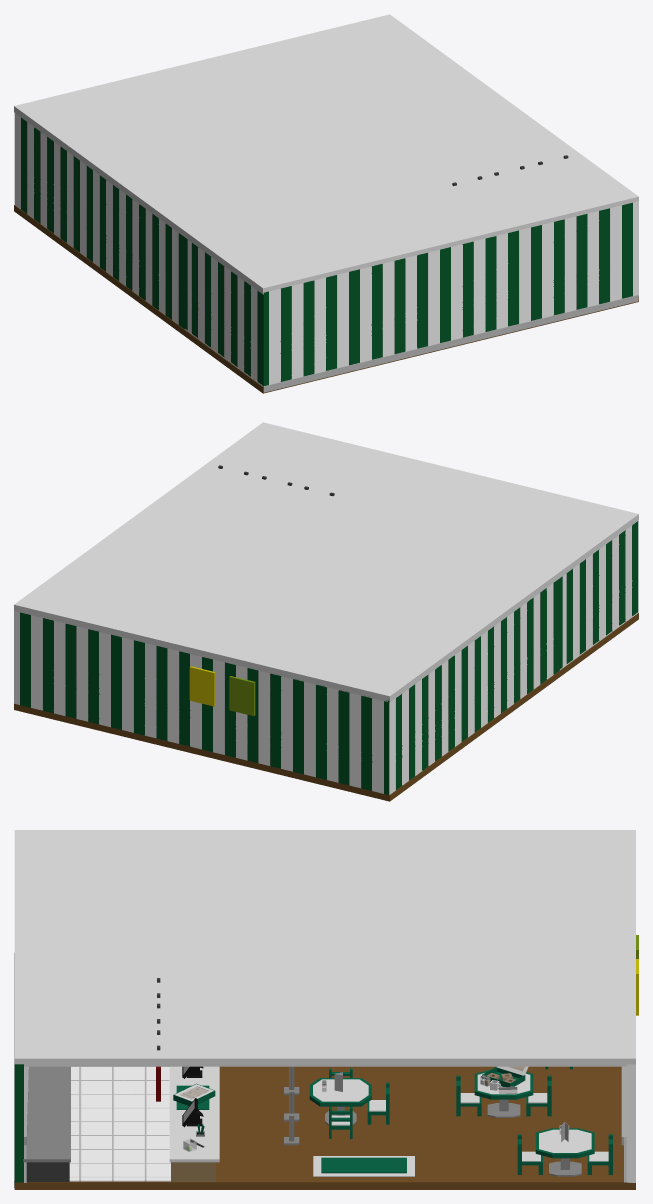
Rendered from GoNuts.fbx.
3 views of the same model, one above another, from view 1: azimuth 30°, elevation 25°; view 2: azimuth 150°, elevation 25°; view 3: azimuth 270°, elevation 25° (orthographic). The views are drawn at different scales.
Parts seen in each view (by area): view 1: Doughnut_Store_Ceiling, Clothing_Store_Wall, Clothing_Store1, Doughnut_Store; view 2: Doughnut_Store_Ceiling, Clothing_Store_Wall, Doughnut_Store, Painting2, Painting1; view 3: Doughnut_Store_Ceiling, Doughnut_Store, Clothing_Store1, Counter_Top (×2), Clothing_Store_Wall, Table5, Table, Mat_Part, Table6, DoughnutCounter, DoughnutCounter1, Welcome_Mat.
Boxes of the visible parts, box(x1,y1,x2,y2) form: Doughnut_Store_Ceiling: box(14, 14, 638, 294); Clothing_Store_Wall: box(14, 113, 638, 386); Clothing_Store1: box(184, 295, 638, 392); Doughnut_Store: box(14, 205, 638, 393); Doughnut_Store_Ceiling: box(14, 422, 638, 702); Clothing_Store_Wall: box(14, 521, 638, 795); Doughnut_Store: box(14, 613, 638, 801); Painting2: box(189, 666, 215, 706); Painting1: box(229, 676, 255, 716); Doughnut_Store_Ceiling: box(14, 830, 635, 1066); Doughnut_Store: box(14, 1066, 635, 1189); Clothing_Store1: box(14, 952, 170, 1188); Counter_Top (×2): box(23, 1066, 219, 1162); Clothing_Store_Wall: box(14, 1064, 635, 1182); Table5: box(535, 1128, 594, 1176); Table: box(309, 1078, 371, 1125); Mat_Part: box(321, 1157, 406, 1173); Table6: box(474, 1069, 533, 1117); DoughnutCounter: box(171, 1162, 215, 1181); DoughnutCounter1: box(26, 1162, 69, 1181); Welcome_Mat: box(313, 1156, 414, 1176).
Size of the model in its own units: 99.49 by 27.07 by 114.
24 materials, 2 textured.
